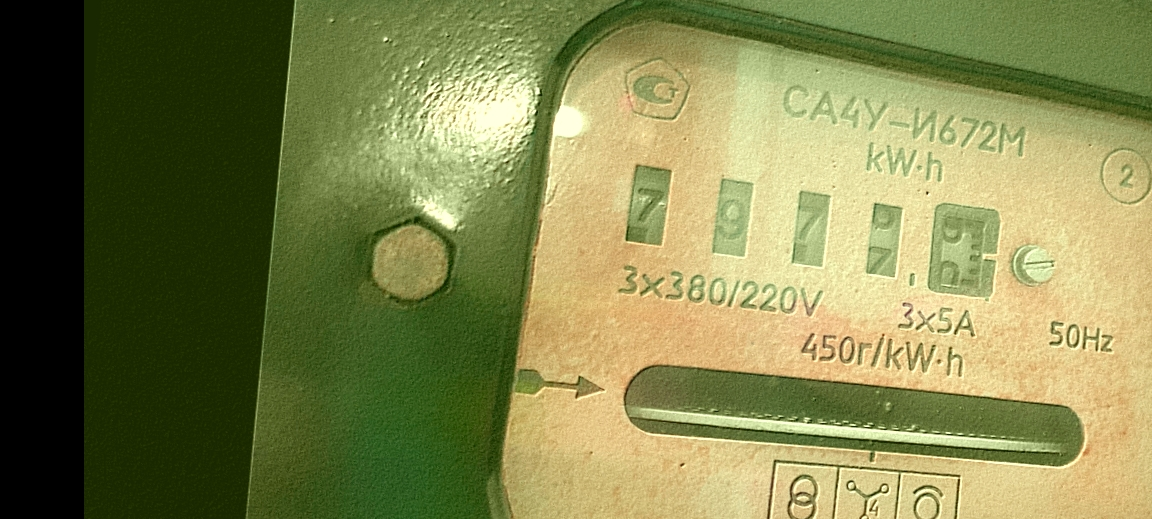0: (937, 257, 963, 288)
7: (631, 183, 668, 231), (865, 237, 898, 282), (795, 202, 828, 246)
9: (716, 195, 751, 245), (939, 214, 972, 248)
screen: (610, 151, 1021, 315)
